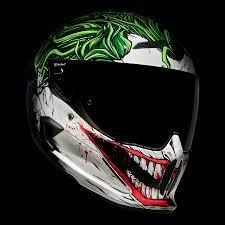helmet: (23, 10, 212, 219)
